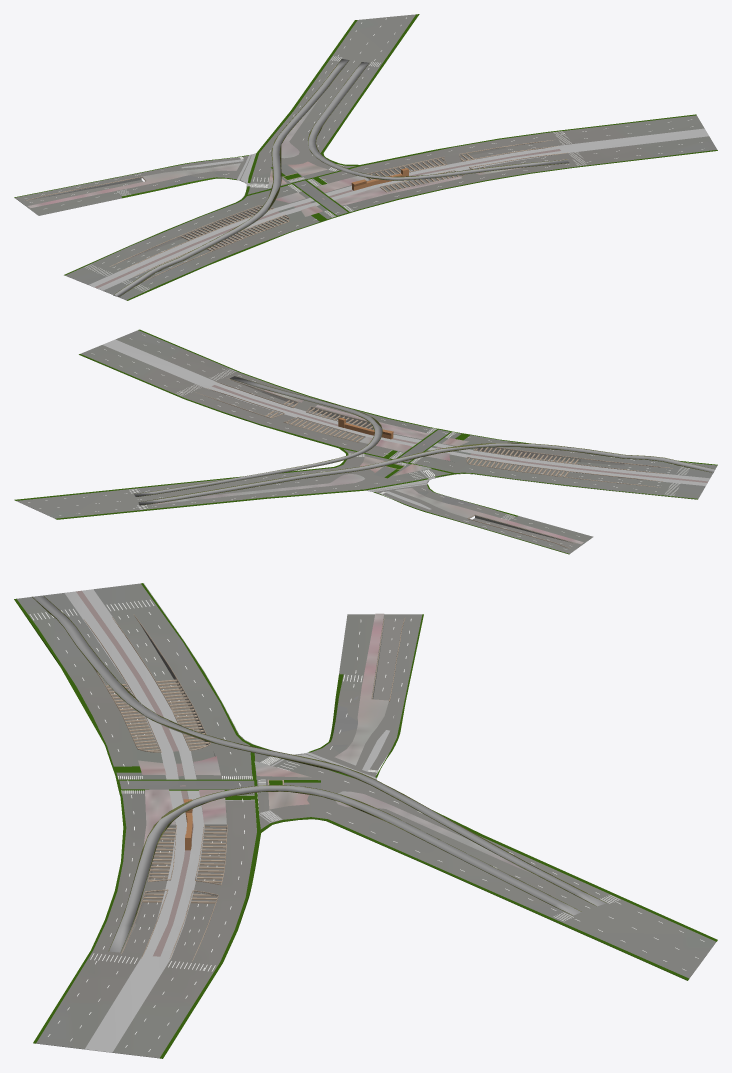
The model's file is Road.glb.
3 renders of one model, top to bottom at view 1: azimuth 30°, elevation 25°; view 2: azimuth 150°, elevation 25°; view 3: azimuth 270°, elevation 25°, orthographic. The views are drawn at different scales.
Visible parts, largest first — view 1: Plane.007, NurbsPath.013, Plane.009, Cube.008, Cube.010, Cube.012; view 2: Plane.007, NurbsPath.013, Plane.009, Cube.008, Cube.010, Cube.012; view 3: Plane.007, NurbsPath.013, Plane.009, Cube.008, Cube.010, Cube.012.
Boxes of the visible parts, x1,y1,x2,y2 form: Plane.007: (14,14,717,300); NurbsPath.013: (113,59,569,296); Plane.009: (28,66,524,216); Cube.008: (25,140,568,281); Cube.010: (25,17,702,291); Cube.012: (271,164,350,216); Plane.007: (14,329,717,554); NurbsPath.013: (134,376,714,505); Plane.009: (153,390,583,544); Cube.008: (196,378,672,548); Cube.010: (28,334,691,549); Cube.012: (373,428,452,478); Plane.007: (14,583,717,1058); NurbsPath.013: (32,596,606,952); Plane.009: (138,613,588,893); Cube.008: (84,614,404,961); Cube.010: (29,600,704,1051); Cube.012: (116,779,320,790).
Bounding box in the file's own units: 36.9 × 1.19 × 23.08.
Materials: 12 (7 with a texture image).
